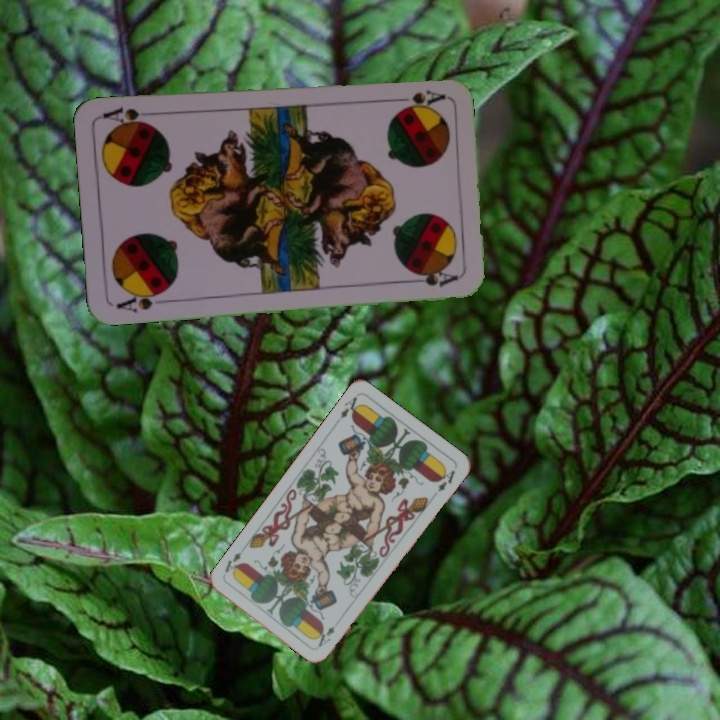EA: (331, 392, 364, 427), (314, 622, 338, 650)
SA: (113, 286, 170, 315), (388, 85, 447, 109)
